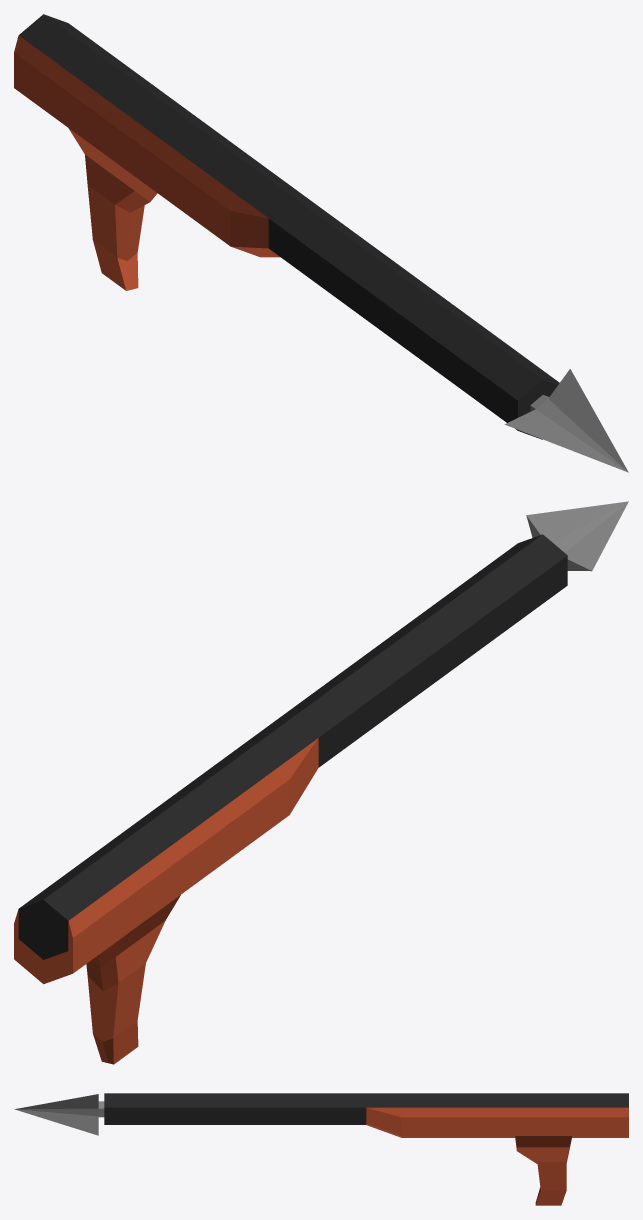
The model's file is Harpoon.fbx.
3 views of the same model, one above another, from view 1: azimuth 30°, elevation 25°; view 2: azimuth 150°, elevation 25°; view 3: azimuth 270°, elevation 25° (orthographic). The views are drawn at different scales.
Visible parts, largest first — view 1: Gun, Harpoon; view 2: Gun, Harpoon; view 3: Gun, Harpoon.
Boxes of the visible parts, x1,y1,x2,y2 form: Gun: [14, 14, 559, 439]; Harpoon: [504, 369, 628, 472]; Gun: [14, 534, 567, 1064]; Harpoon: [526, 501, 628, 571]; Gun: [104, 1093, 628, 1205]; Harpoon: [14, 1094, 104, 1135].
Bounding box in the file's own units: 12.77 × 36.55 × 176.
